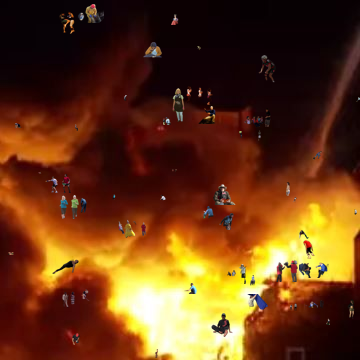Human: (276, 257, 298, 282), (258, 55, 276, 85), (55, 7, 75, 34), (62, 289, 90, 308), (76, 4, 104, 23), (118, 219, 146, 238), (211, 313, 233, 337), (186, 86, 213, 105), (244, 108, 271, 127), (299, 261, 329, 278), (222, 264, 247, 284), (45, 174, 71, 193), (213, 184, 236, 205), (59, 195, 79, 219), (52, 257, 79, 274), (172, 88, 185, 123), (198, 106, 218, 124), (247, 294, 268, 310), (143, 42, 162, 58), (219, 213, 234, 230), (302, 299, 324, 310), (303, 240, 315, 259), (347, 299, 355, 319), (184, 283, 197, 294), (203, 206, 214, 219), (171, 14, 183, 25), (80, 197, 87, 213), (71, 333, 80, 345), (153, 194, 166, 201), (299, 230, 309, 239), (5, 123, 22, 128), (313, 151, 322, 160), (250, 275, 256, 287), (290, 303, 298, 311), (163, 117, 171, 125), (286, 182, 290, 196), (258, 130, 261, 141), (326, 318, 330, 325), (155, 349, 158, 358), (112, 194, 116, 200), (293, 197, 297, 203), (75, 124, 78, 131), (239, 131, 242, 138), (197, 46, 201, 51), (356, 97, 360, 102), (354, 209, 357, 215), (124, 95, 127, 101), (172, 169, 178, 172), (38, 171, 44, 174), (8, 252, 14, 255)
